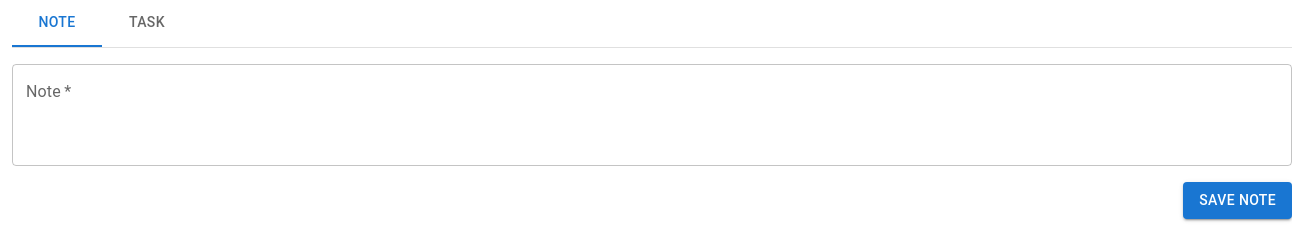
it: NoteTaskForm › loading state › shows loading state on note submit button during request
This screenshot has width=1304, height=239.
Type "Test note" into the text box named "Note body". click: (652, 115)
box: x1=26 y1=80 x2=1278 y2=150
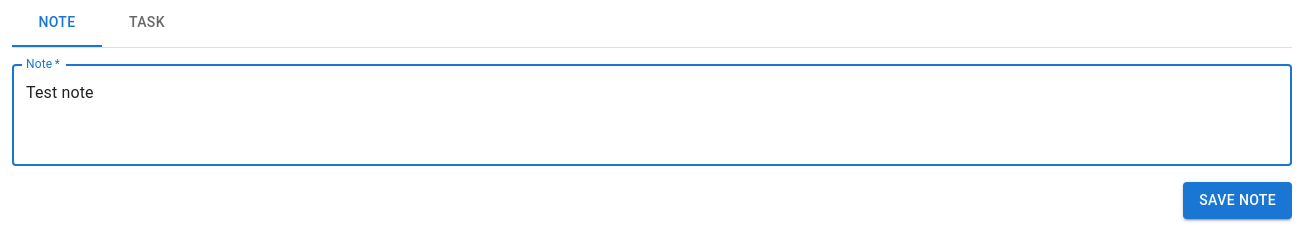
Click the button "Save Note". click: (1238, 200)
box: x1=1183 y1=182 x2=1292 y2=218
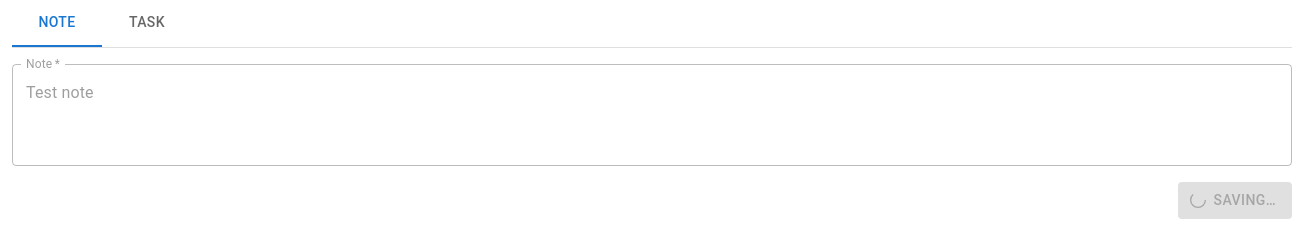
Expected: the button "Saving…" is disabled, x1=1178 y1=182 x2=1292 y2=218
